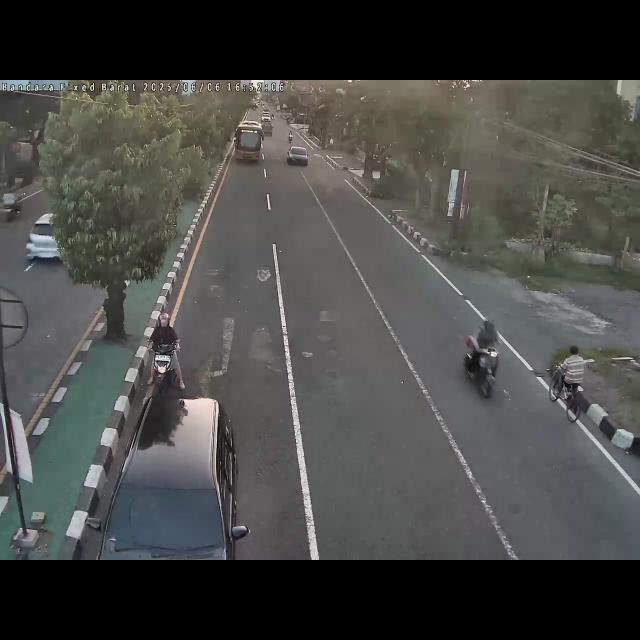Bis: (230, 119, 270, 169)
Mobil: (82, 388, 248, 560), (284, 142, 312, 170)
Motor: (459, 314, 506, 406), (146, 308, 188, 404)
